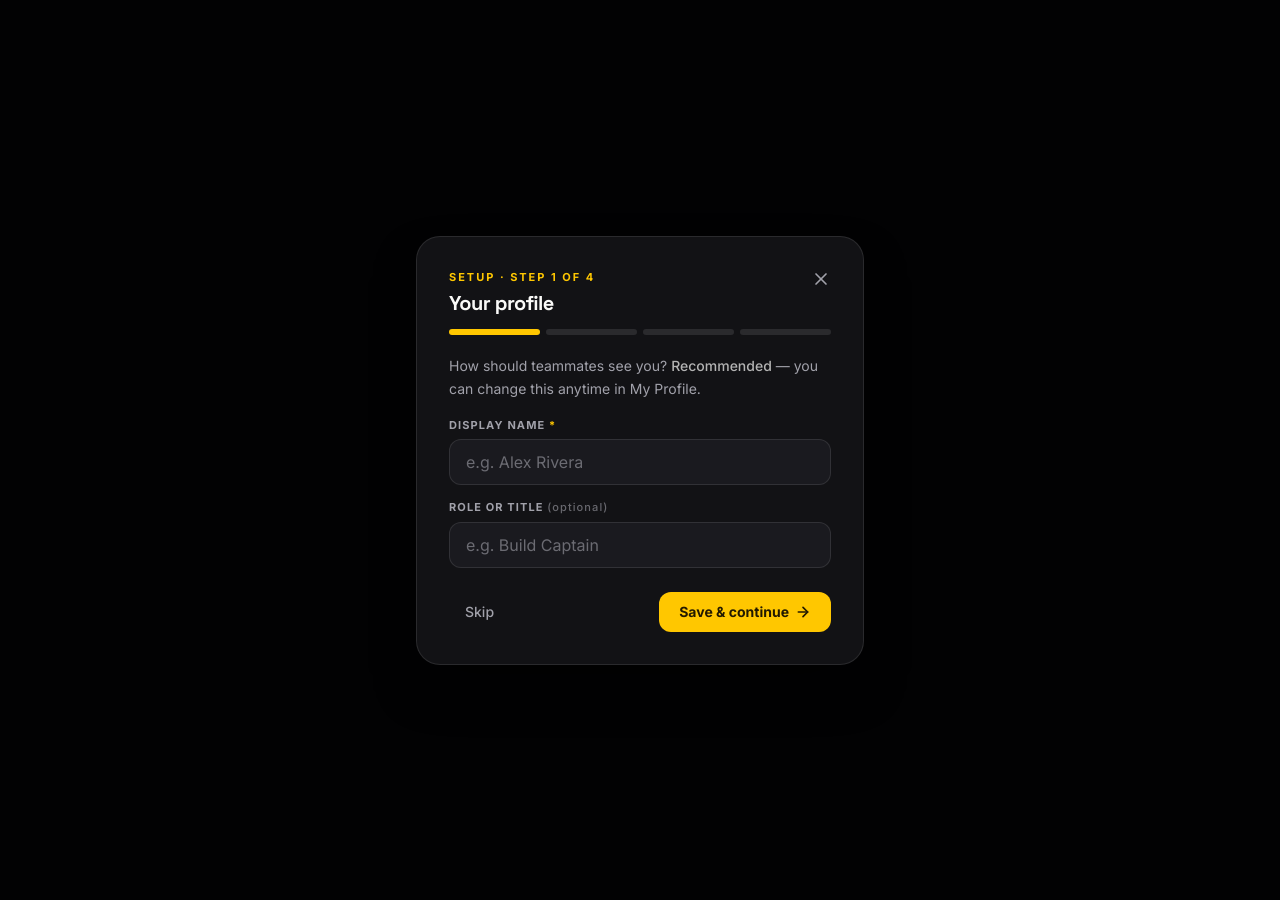
Test: SetupWizard › scenario 10 — profile step can be skipped
Click the button "Skip" at (480,612), box left=449, top=592, right=510, bottom=632
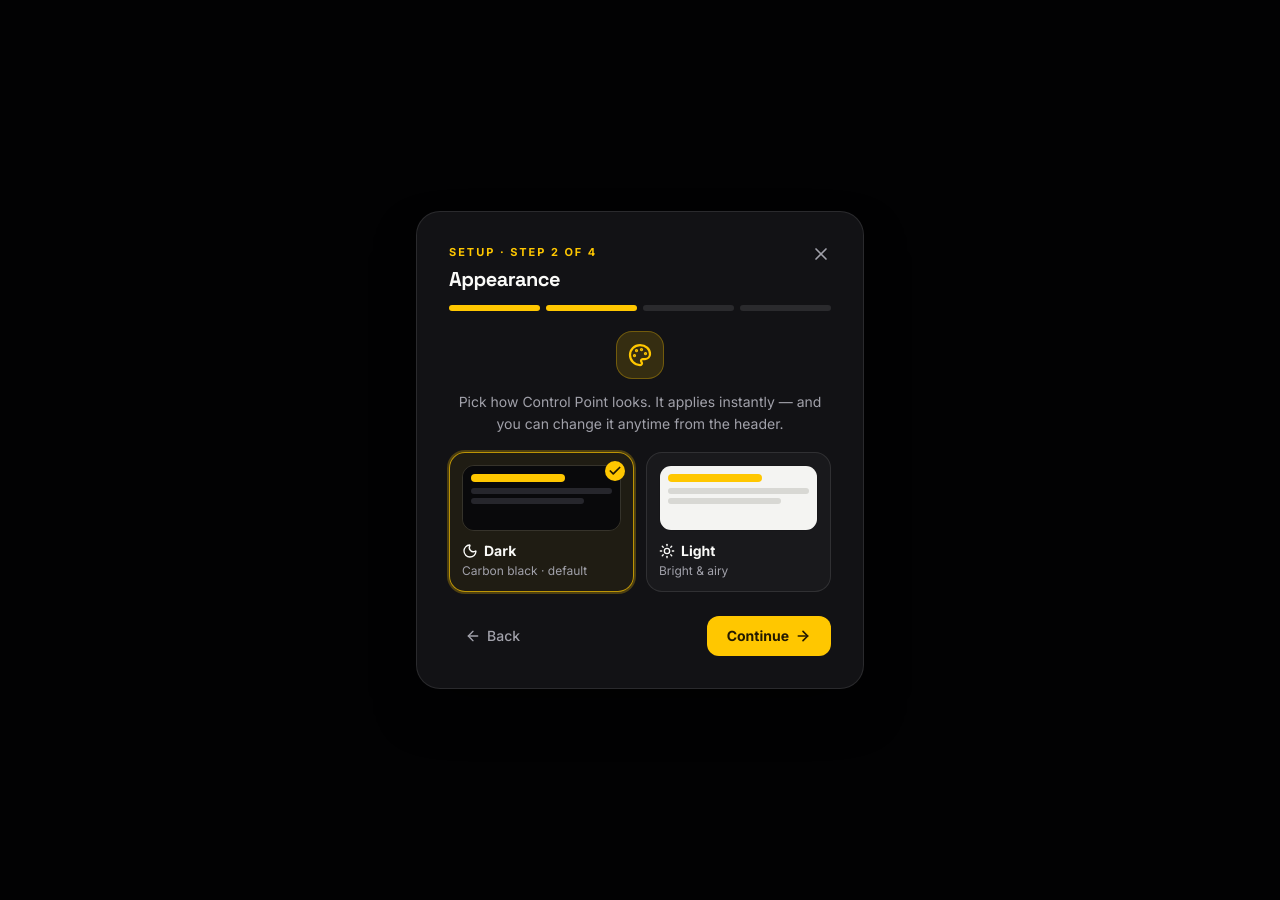
Now the element named "appearance" is shown, box left=449, top=452, right=831, bottom=592
